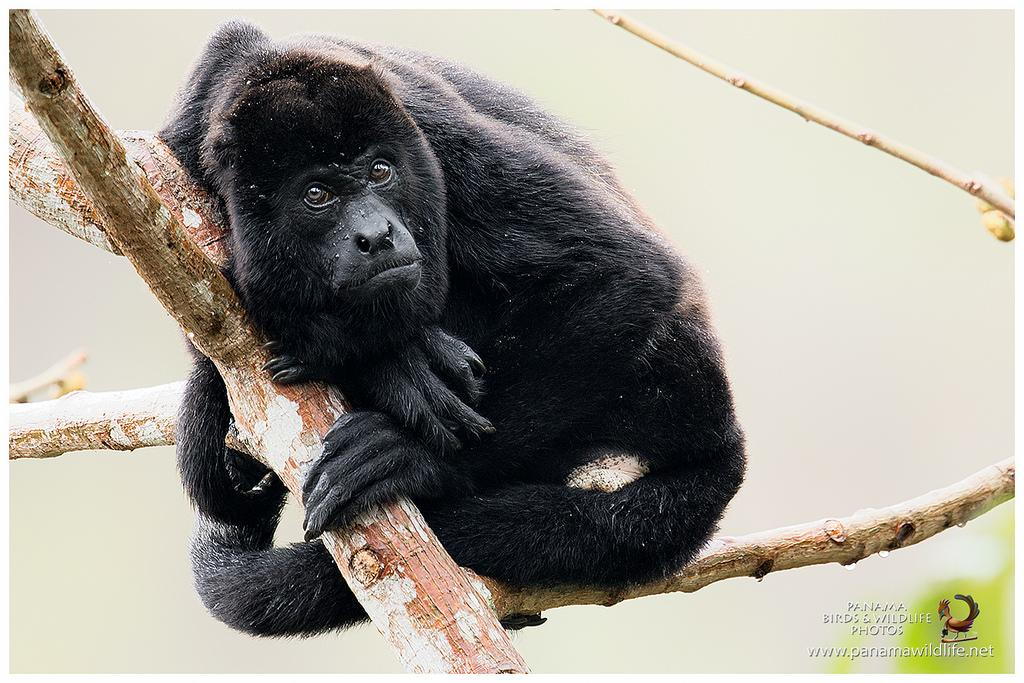monkey: (149, 22, 745, 639)
